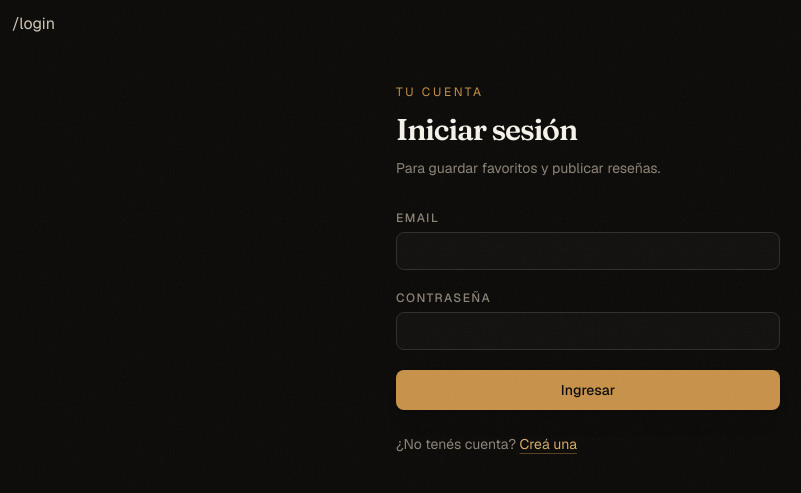
Test: LoginPage › valida en el cliente antes de mandar nada
This screenshot has width=801, height=493.
In the field labelled "Email": (588, 251) [396,232,780,270], type "no-es-un-email"
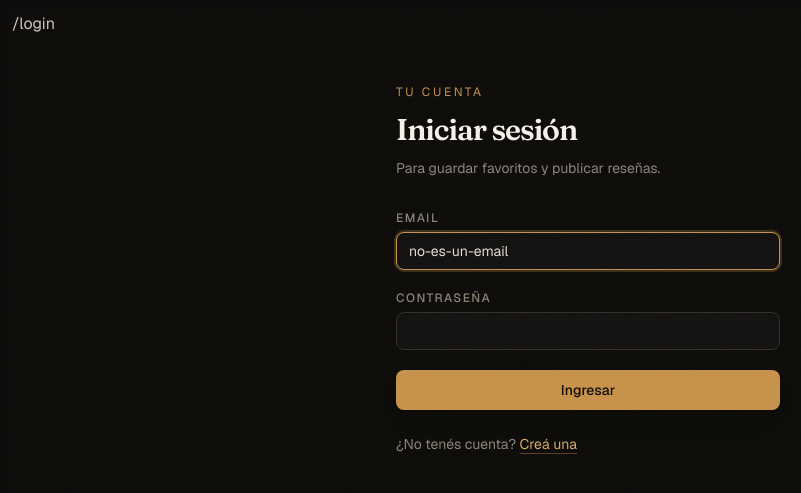
In the password field labelled "Contraseña": (588, 331) [396,312,780,350], type "algo"
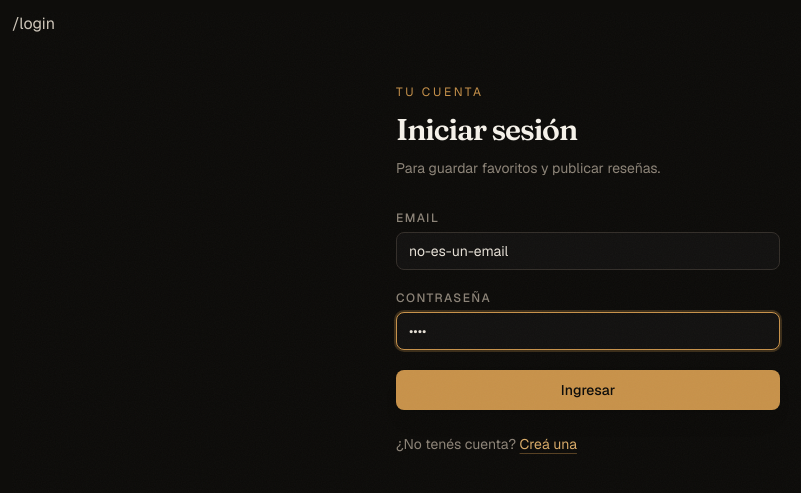
Click the button "Ingresar": (588, 390) [396,370,780,410]
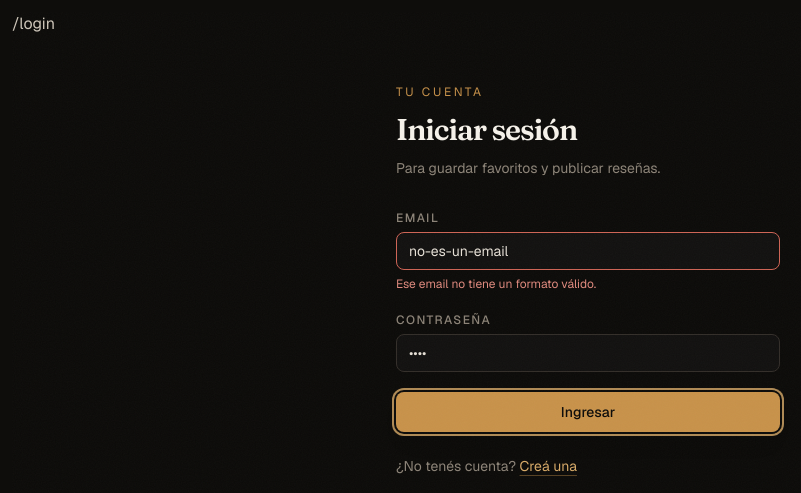
Now the text "Ese email no tiene un formato válido." is shown, box [396,276,596,292]
